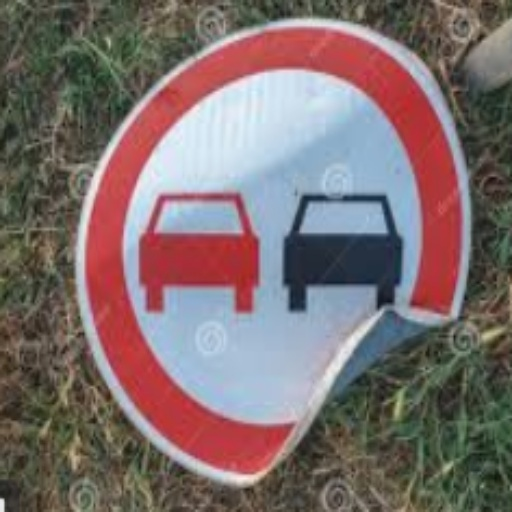No overtake: (50, 21, 466, 480)
